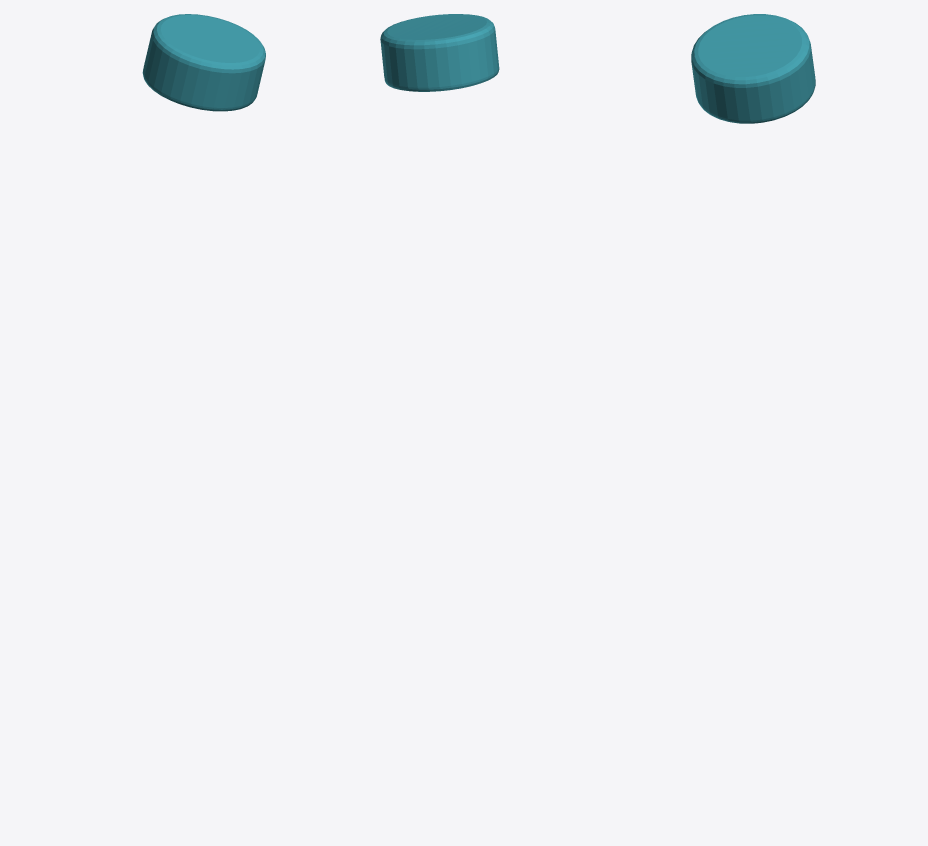
The model's file is bend_low_0.obj.
3 views of the same model, side by side, from view 1: azimuth 30°, elevation 25°; view 2: azimuth 150°, elevation 25°; view 3: azimuth 270°, elevation 25° (orthographic). The views are drawn at different scales.
Parts seen in each view (by area): view 1: model; view 2: model; view 3: model.
Part boxes in pixels (x1,y1,x2,y2): model: [142, 14, 265, 111]; model: [380, 14, 499, 91]; model: [691, 14, 815, 123].
Bounding box in the file's own units: 0.0845 × 0.251 × 0.0799.
1 material, 1 textured.
